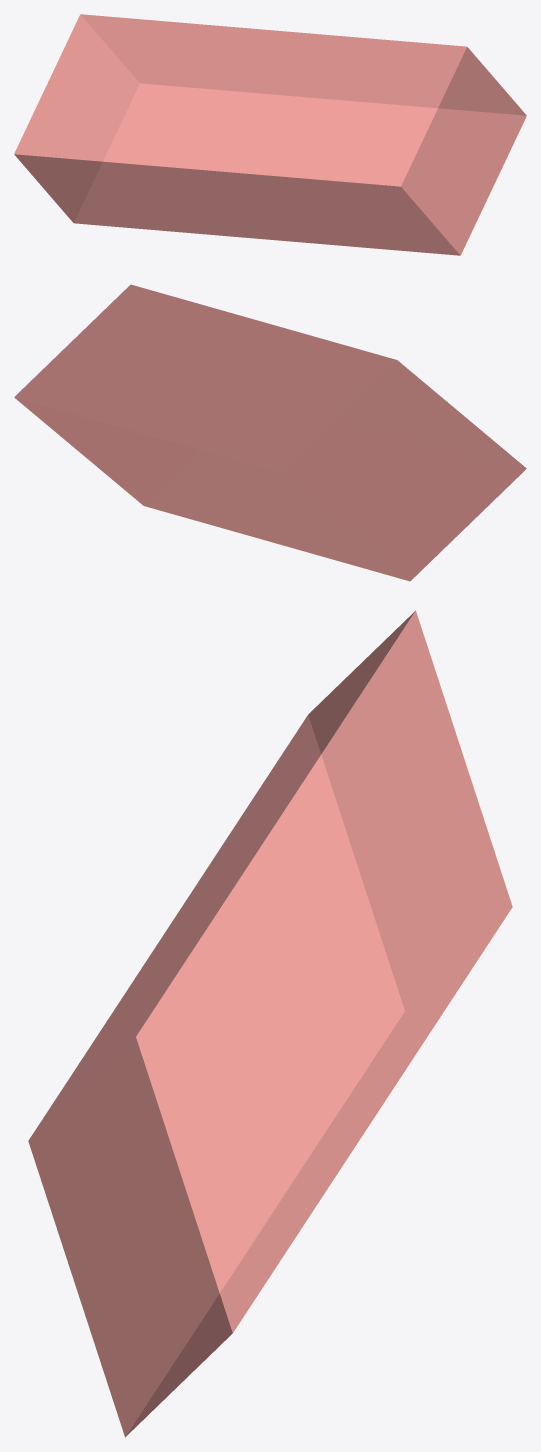
The picture shows the model from 3 angles, top to bottom: view 1: azimuth 30°, elevation 25°; view 2: azimuth 150°, elevation 25°; view 3: azimuth 270°, elevation 25°; orthographic projection. The views are drawn at different scales.
Size of the model in its own units: 10.6 by 5.4 by 4.5.
